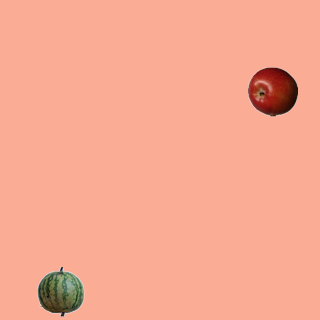Apple Braeburn: (247, 66, 297, 116)
Watermelon: (35, 266, 85, 316)
